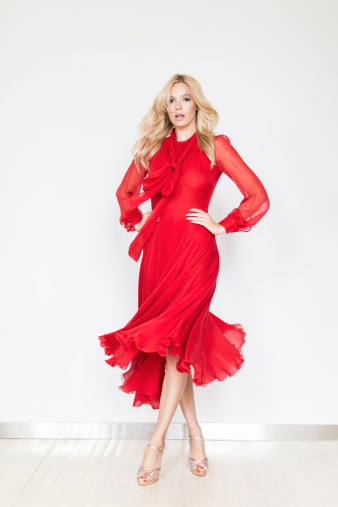em pe: (115, 70, 276, 362)
